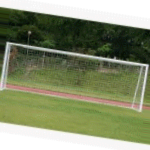goals: (1, 41, 150, 113)
